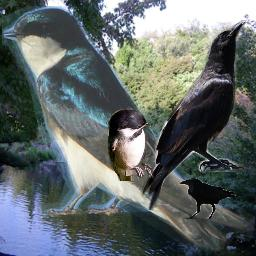Crow: (141, 20, 246, 210), (179, 178, 242, 220)
Swallow: (2, 6, 255, 251), (106, 107, 156, 181)
